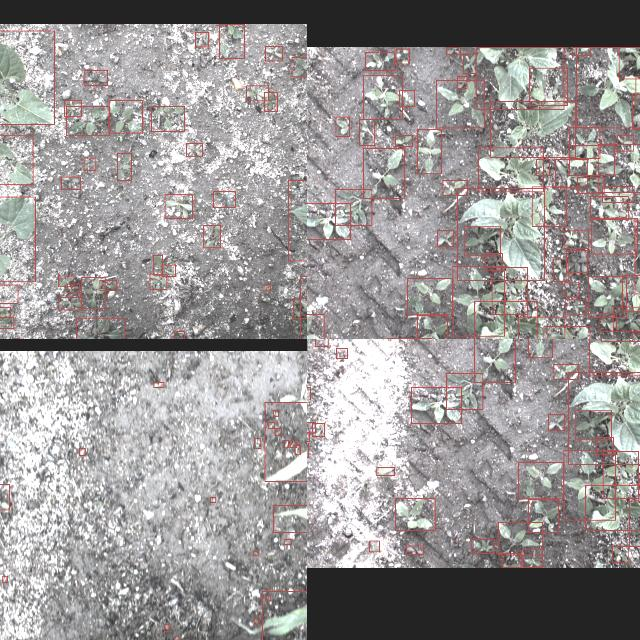crop: (458, 188, 544, 280), (568, 372, 640, 464), (476, 46, 564, 108), (0, 30, 54, 124), (490, 101, 576, 157), (264, 401, 307, 480), (478, 147, 544, 191), (0, 196, 34, 281), (585, 484, 640, 529), (474, 300, 537, 339), (261, 590, 307, 640), (589, 339, 640, 375), (0, 135, 33, 184), (274, 504, 307, 531)
weed: (576, 46, 640, 127), (453, 266, 505, 336), (564, 450, 616, 520), (436, 79, 484, 127), (598, 143, 640, 192), (364, 148, 404, 198), (411, 386, 461, 424), (474, 339, 515, 382), (363, 75, 403, 119), (492, 266, 528, 314), (603, 450, 639, 498), (518, 462, 564, 498), (588, 276, 626, 318), (307, 202, 350, 239), (408, 278, 452, 314), (592, 217, 636, 253), (529, 67, 567, 105), (498, 522, 542, 554), (532, 186, 566, 226), (66, 105, 110, 135), (570, 145, 614, 175), (336, 189, 372, 225), (447, 373, 483, 409), (395, 498, 435, 530), (416, 128, 442, 174), (109, 100, 143, 132), (576, 410, 612, 440), (519, 316, 565, 339), (465, 227, 501, 256), (568, 126, 600, 158), (76, 318, 124, 339), (528, 500, 558, 532), (555, 159, 587, 187), (590, 196, 628, 218), (220, 23, 244, 57), (80, 278, 106, 308), (152, 106, 184, 130), (417, 315, 447, 339), (165, 194, 193, 218), (619, 46, 640, 78), (613, 307, 640, 331), (623, 275, 640, 311), (546, 326, 589, 339), (602, 186, 634, 202), (366, 51, 394, 69), (566, 250, 588, 272), (630, 500, 640, 546), (527, 339, 552, 357), (564, 230, 588, 248), (307, 314, 324, 339), (578, 176, 604, 192), (523, 548, 543, 568), (117, 153, 131, 180), (203, 225, 220, 247), (360, 118, 374, 144), (442, 180, 468, 194), (213, 191, 235, 207), (246, 84, 268, 100), (58, 296, 82, 310), (84, 70, 108, 84), (554, 258, 568, 282), (554, 364, 578, 378), (596, 437, 614, 455), (0, 284, 17, 303), (471, 539, 494, 553), (291, 56, 307, 76), (64, 100, 82, 116), (486, 253, 502, 271), (600, 313, 616, 331), (293, 298, 307, 318), (264, 91, 278, 111), (336, 116, 350, 136), (566, 300, 586, 314), (150, 273, 167, 289), (437, 230, 453, 246), (617, 134, 633, 150), (548, 414, 564, 430), (612, 546, 628, 562), (502, 553, 520, 567), (464, 53, 476, 73), (0, 483, 9, 509), (61, 176, 80, 188), (186, 142, 202, 156), (266, 46, 282, 60), (400, 90, 414, 106), (536, 159, 550, 175), (153, 255, 163, 275), (195, 32, 209, 46), (564, 282, 578, 296), (396, 134, 412, 146), (0, 317, 14, 329), (162, 264, 176, 276), (396, 48, 408, 62), (312, 422, 324, 436), (58, 276, 74, 286), (100, 280, 116, 290), (84, 157, 96, 169), (572, 46, 590, 54), (377, 467, 395, 475), (406, 546, 424, 554), (457, 76, 467, 88), (370, 540, 380, 552), (446, 46, 460, 54), (337, 348, 348, 358), (0, 307, 10, 317), (68, 284, 80, 292), (315, 339, 328, 346), (174, 331, 184, 339), (254, 438, 262, 448), (307, 422, 315, 432), (263, 284, 271, 290), (632, 333, 640, 339), (284, 538, 292, 544), (274, 428, 282, 434), (290, 439, 296, 446), (154, 382, 164, 386), (296, 444, 300, 454), (164, 624, 170, 630), (2, 576, 8, 582), (210, 496, 216, 502), (268, 422, 274, 428), (284, 439, 288, 446), (174, 635, 179, 640), (254, 618, 258, 624), (254, 550, 258, 556), (80, 448, 84, 454), (274, 409, 278, 415), (266, 596, 270, 600), (14, 338, 19, 339)
